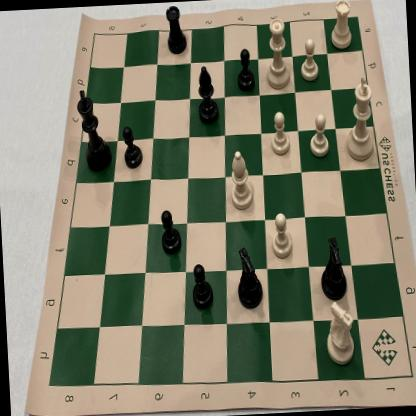black-bishop: (193, 60, 221, 127)
black-king: (73, 82, 114, 173)
black-knight: (316, 232, 352, 302), (232, 244, 266, 312)
black-pawn: (188, 258, 217, 313), (156, 206, 184, 258), (119, 121, 146, 172), (232, 41, 256, 94)
black-rook: (162, 1, 190, 58)
white-bishop: (226, 148, 256, 214)
white-king: (340, 73, 376, 164)
white-knight: (321, 297, 359, 370)
white-pawn: (268, 207, 296, 262), (266, 106, 294, 160), (297, 34, 322, 86), (306, 108, 330, 160)
white-queen: (261, 13, 292, 92)
white-rook: (324, 0, 357, 55)
